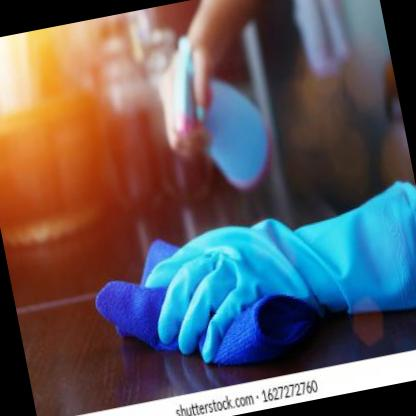Gloves: (130, 174, 416, 378)
